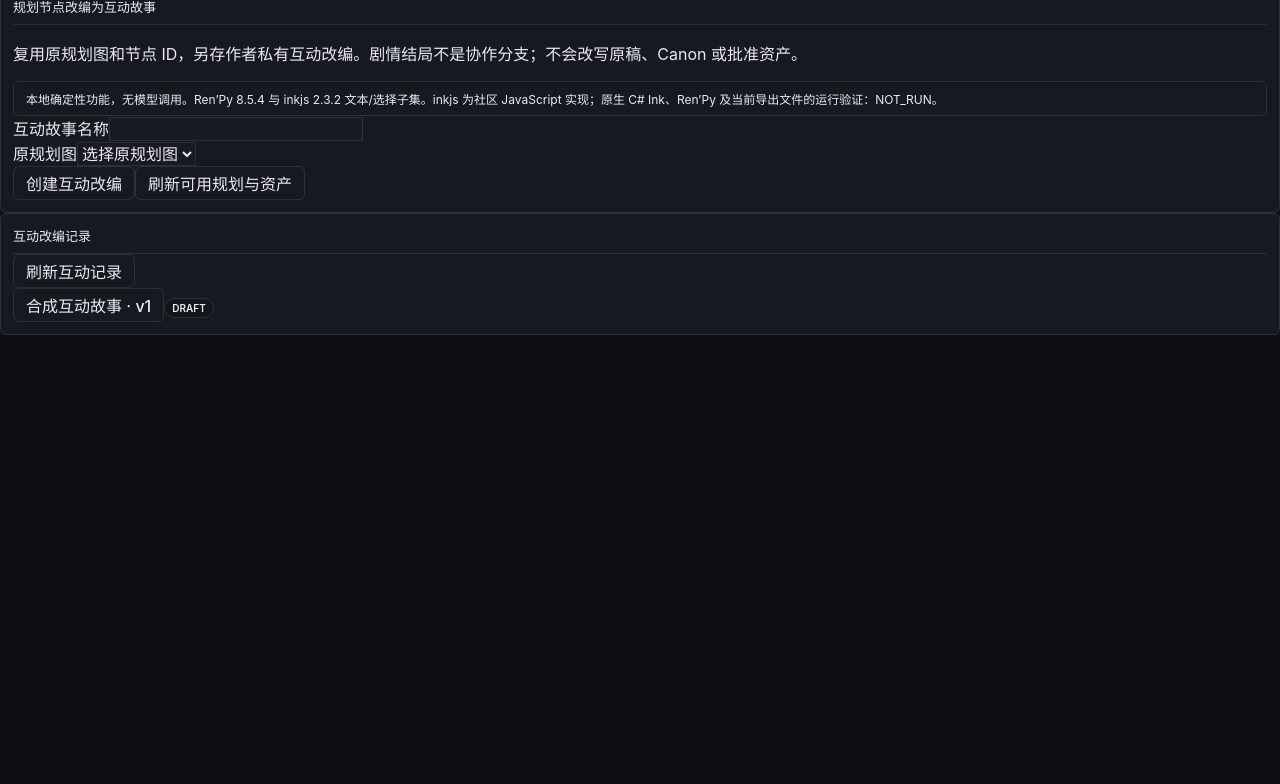
Test case: rejects ambiguous node IDs and isolates issue navigation after switching the client
Click the button "合成互动故事 · v1" at (89, 305), box [13,288,164,322]
(page scrolled)
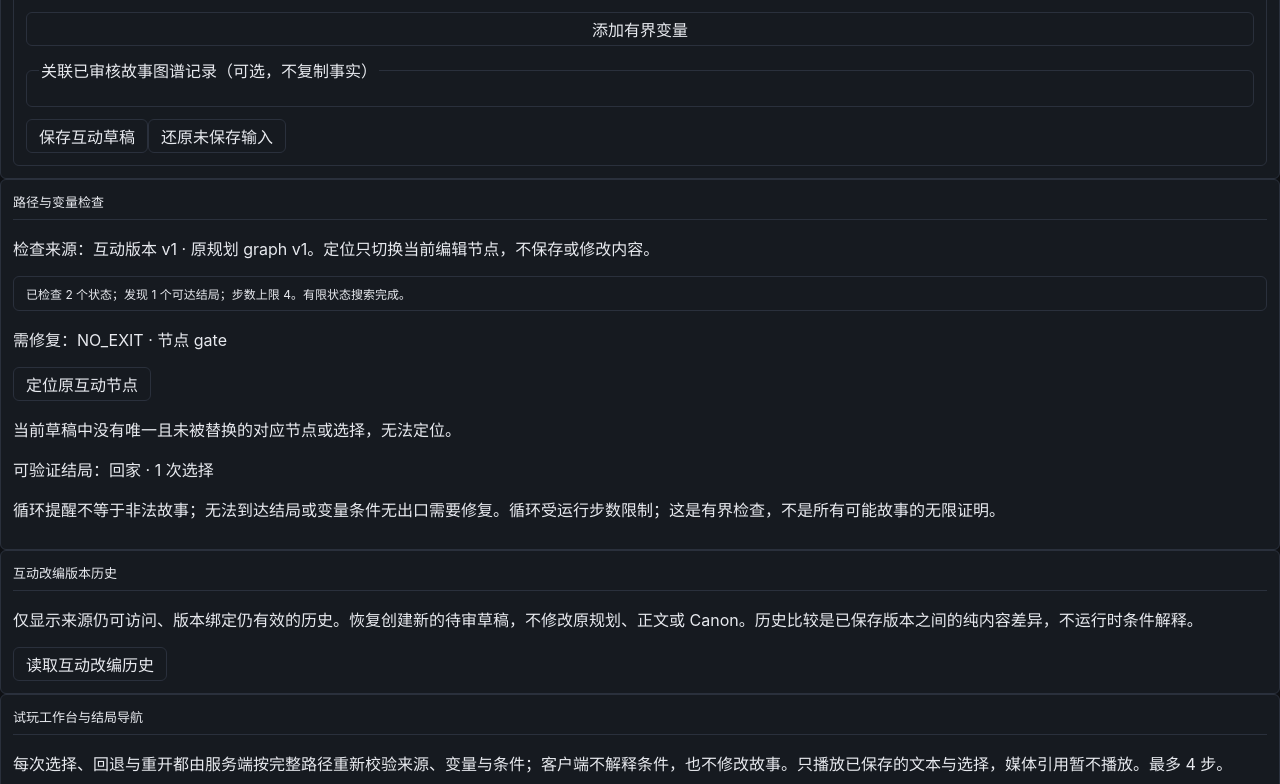
Expected: the button with aria-label "定位 NO_EXIT 节点 gate" is disabled, [13,367,151,401]
